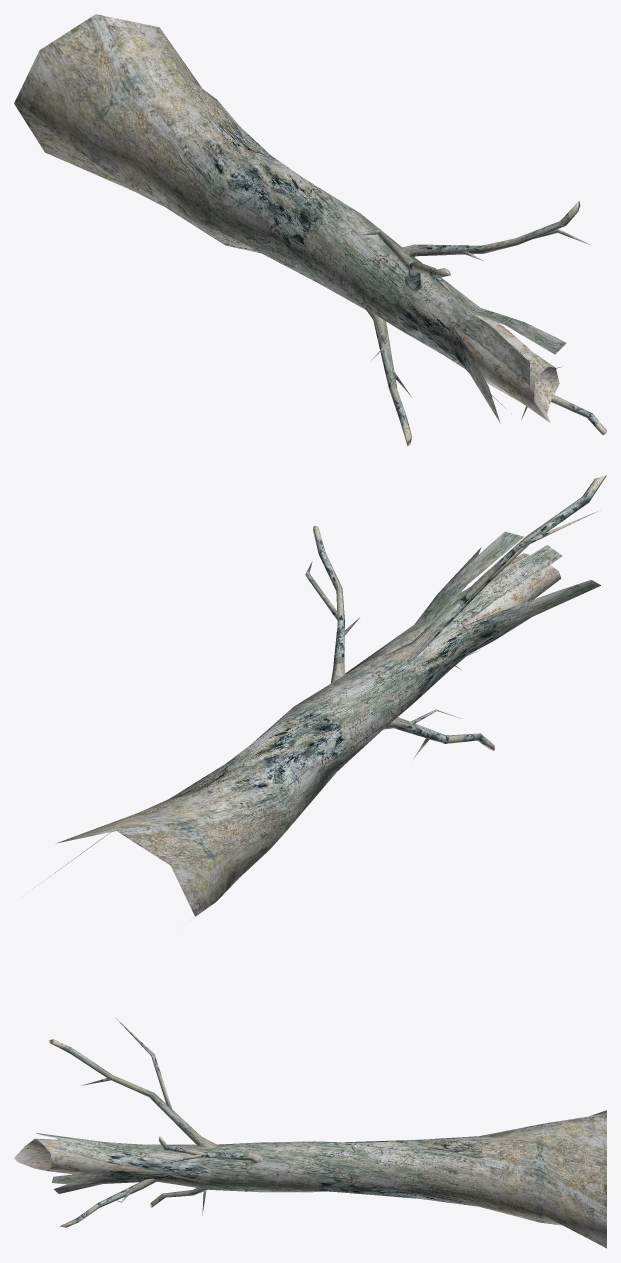
Rendered from tree_destoyed_snow_trunk_a.glb.
3 renders of one model, top to bottom at view 1: azimuth 30°, elevation 25°; view 2: azimuth 150°, elevation 25°; view 3: azimuth 270°, elevation 25°, orthographic. The views are drawn at different scales.
Size of the model in its own units: 62.1 by 56.12 by 181.
Materials: 1 (1 with a texture image).
